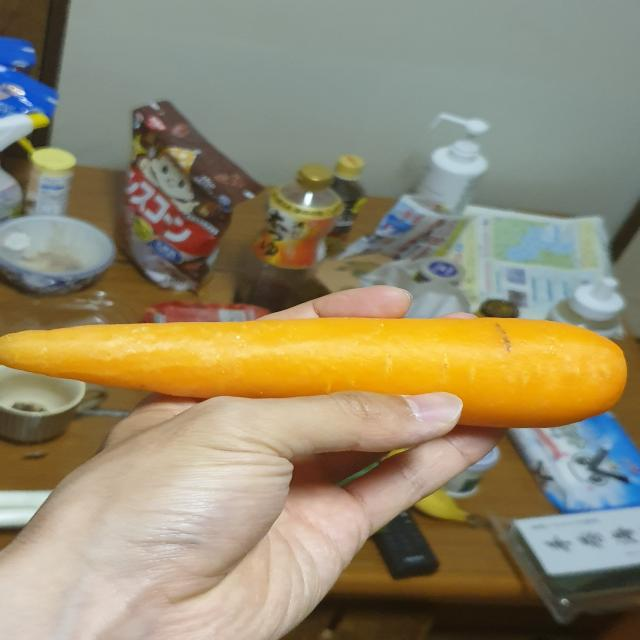Carrot: (0, 312, 636, 432)
